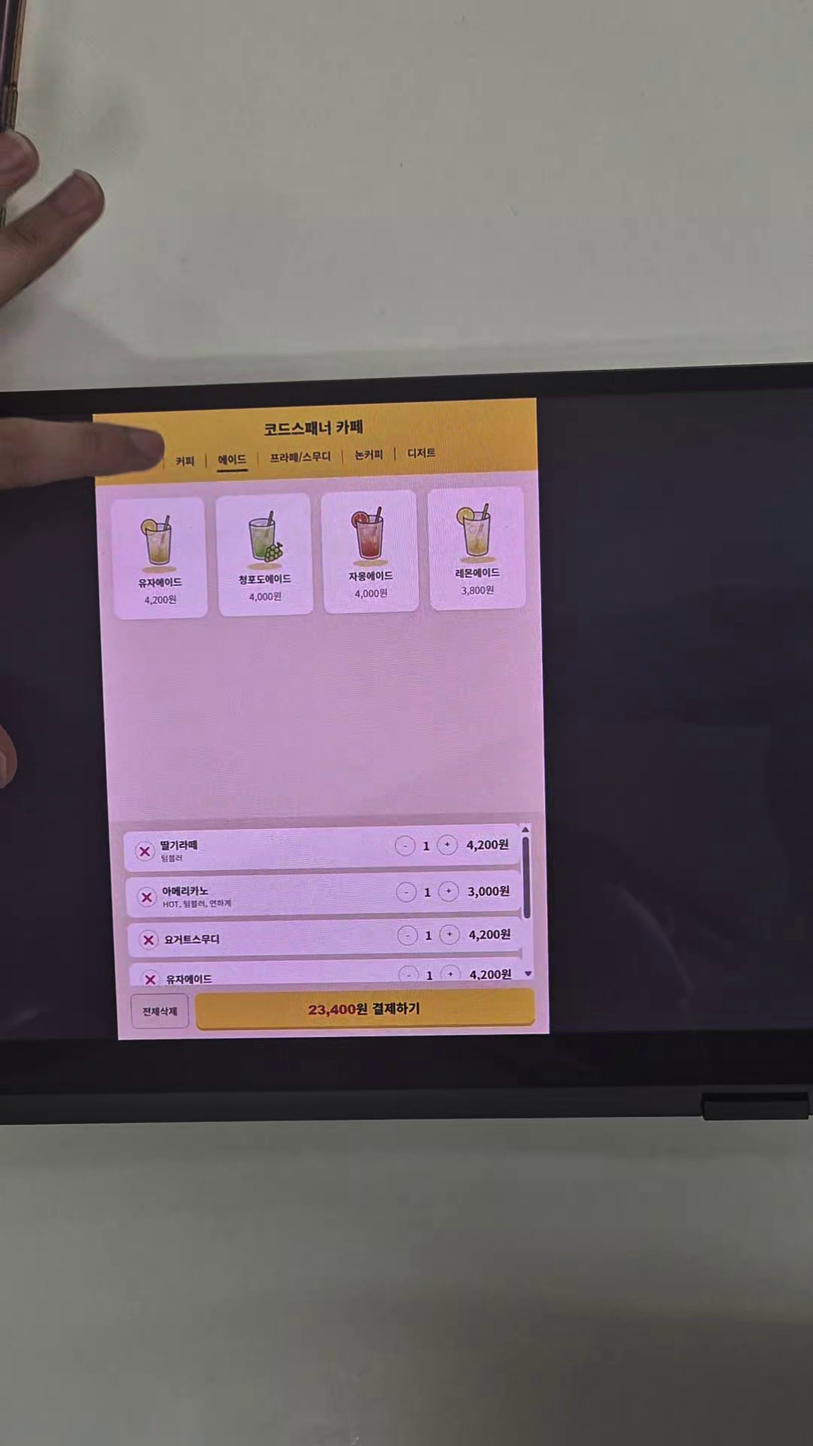action_button: (195, 988, 535, 1030), (131, 994, 189, 1029)
cart_item: (123, 824, 521, 872), (126, 870, 522, 918), (127, 916, 522, 958), (129, 957, 523, 986)
category_tab: (270, 451, 331, 464), (355, 449, 383, 461), (408, 447, 436, 459), (218, 454, 247, 465), (175, 455, 195, 467)
menu_back: (321, 489, 420, 614), (428, 486, 526, 611), (215, 492, 313, 616), (111, 497, 209, 620)
menu_name: (238, 573, 292, 585), (349, 570, 393, 582), (138, 577, 183, 588), (455, 567, 500, 578)
menu_price: (144, 594, 177, 606), (355, 588, 387, 600), (249, 591, 282, 602), (461, 585, 494, 596)
